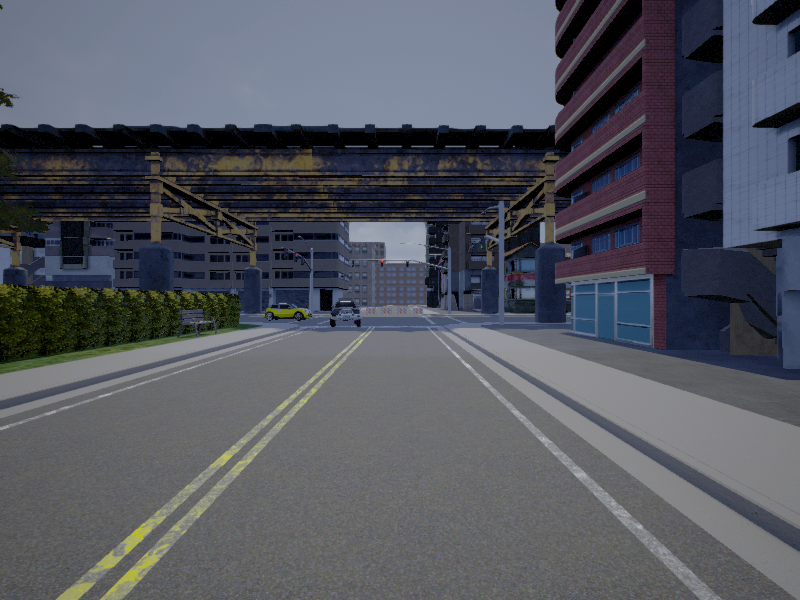Benign: (327, 302, 364, 326), (267, 301, 308, 318)
